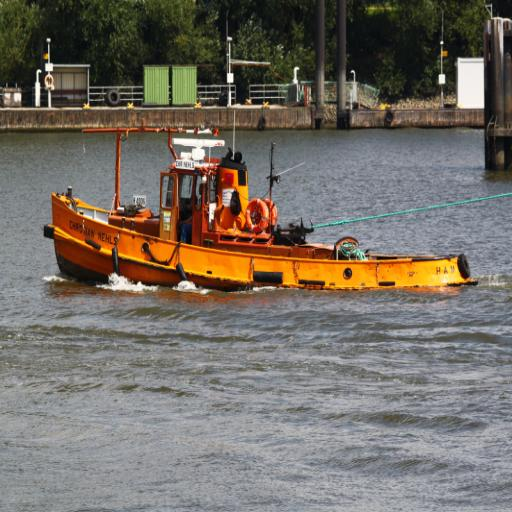tugboat: (43, 116, 483, 315)
